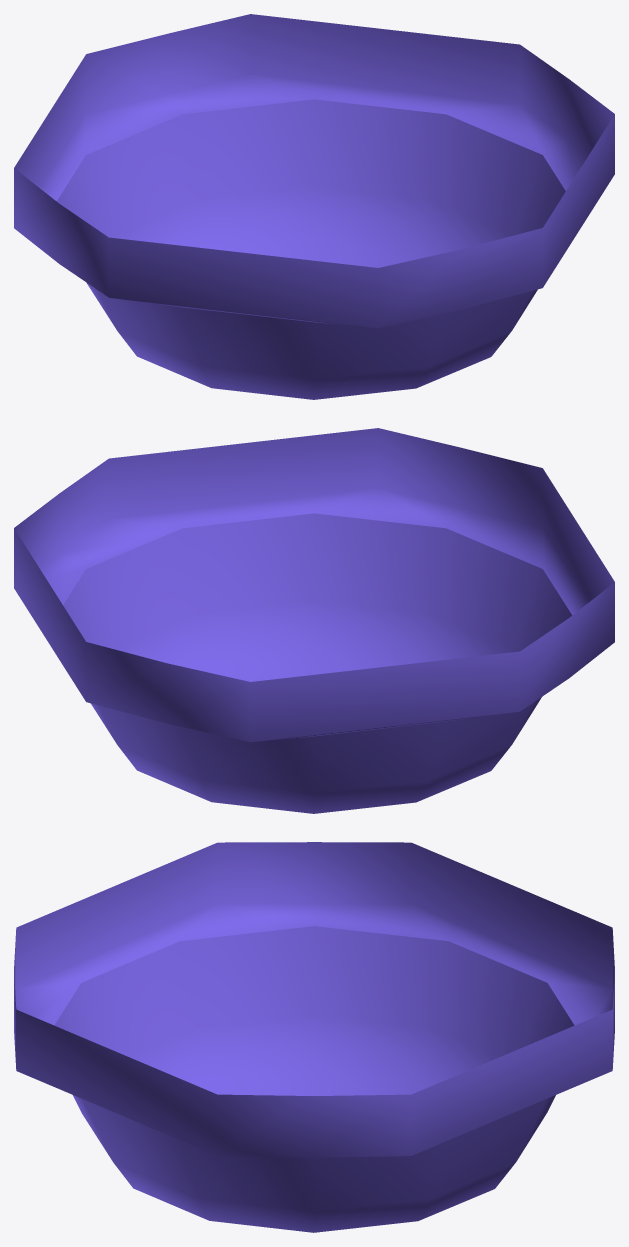
The model's file is CeilingLight01_mesh.fbx.
3 views of the same model, one above another, from view 1: azimuth 30°, elevation 25°; view 2: azimuth 150°, elevation 25°; view 3: azimuth 270°, elevation 25° (orthographic). The views are drawn at different scales.
Visible parts, largest first — view 1: CeilingLight01_mesh; view 2: CeilingLight01_mesh; view 3: CeilingLight01_mesh.
Part boxes in pixels (x1,y1,x2,y2): CeilingLight01_mesh: (14, 14, 614, 399); CeilingLight01_mesh: (14, 428, 614, 813); CeilingLight01_mesh: (14, 842, 614, 1232).
Size of the model in its own units: 122 by 44.16 by 122.
